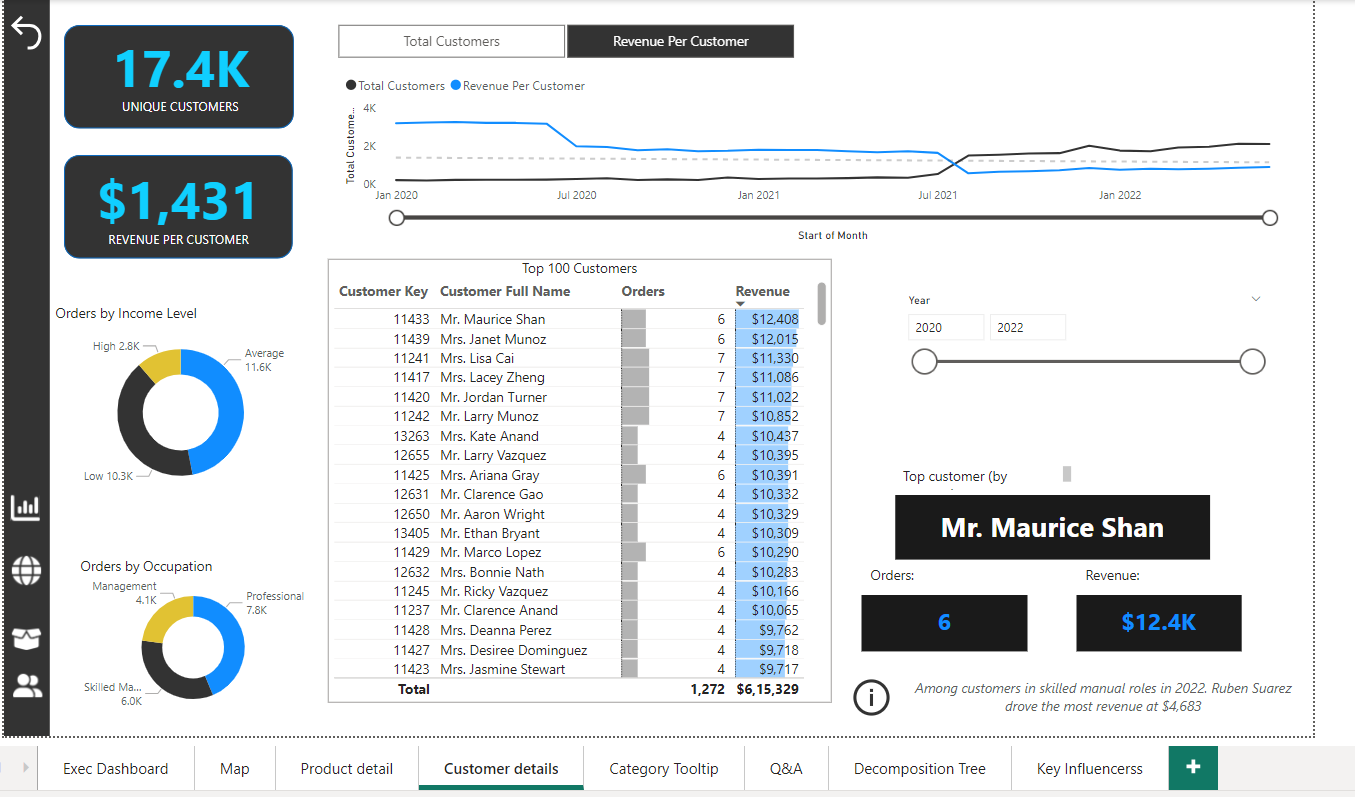

This screenshot's page, from the dashboard's own definition file:
{"tool":"powerbi","page":{"name":"Customer details","canvas":[1280,720],"ordinal":3},"visuals":[{"type":"shape","box":[0,0,45,720],"z":0},{"type":"actionButton","box":[2.4,463.3,36.7,67.2],"z":0,"group":"g1"},{"type":"shape","box":[58.8,25,225,101.2],"z":1000},{"type":"actionButton","box":[3.8,524.5,36.7,67.2],"z":1000,"group":"g1"},{"type":"card","fields":{"Values":["Meassure Table.Total customers"]},"box":[45,17.5,255,108.8],"z":2000},{"type":"actionButton","box":[3.8,591.7,36.7,67.2],"z":2000,"group":"g1"},{"type":"shape","box":[58.8,151.2,223.8,101.2],"z":3000},{"type":"card","fields":{"Values":["Meassure Table.Average Revenue Per Customer"]},"box":[70,131.2,202.5,141.2],"z":4000},{"type":"lineChart","fields":{"Y":["Meassure Table.Total customers","Meassure Table.Average Revenue Per Customer"],"Category":["Calendar Lookup.Year","Calendar Lookup.Start of Month","Calendar Lookup.Start of Week","Calendar Lookup.Date"]},"box":[328.8,63.6,935.1,177.2],"z":5000},{"type":"donutChart","title":"Orders by Income Level","fields":{"Category":["Customer Lookup.Income Level"],"Y":["Meassure Table.Total orders"]},"box":[45.2,297,255.5,195.6],"z":6000},{"type":"donutChart","title":"Orders by Occupation","fields":{"Y":["Meassure Table.Total orders"],"Category":["Customer Lookup.Occupation"]},"box":[69.7,544,231,161.4],"z":7000},{"type":"tableEx","title":"Top 100 Customers","fields":{"Values":["Customer Lookup.CustomerKey","Customer Lookup.Customer Full Name (CC)","Meassure Table.Total orders","Meassure Table.Total Revenue"]},"box":[316.6,253,492.6,434],"z":8000},{"type":"card","fields":{"Values":["Customer Lookup.Full Name (Customer Detail)"]},"box":[871.6,484.3,308,63.6],"z":9000},{"type":"textbox","box":[874,451.3,174.8,33],"z":10000},{"type":"textbox","box":[1048.8,547.9,174.8,30.6],"z":11000},{"type":"textbox","box":[838.6,547.6,162.6,34.2],"z":12000},{"type":"card","fields":{"Values":["Meassure Table.Total Revenue (Customer Detail)"]},"box":[1048.8,582.1,161.4,55],"z":13000},{"type":"card","fields":{"Values":["Meassure Table.Total Orders (Customer Detail)"]},"box":[838.6,581.9,162.6,55],"z":14000},{"type":"slicer","fields":{"Values":["Calendar Lookup.Year"]},"box":[871.6,282.4,370.4,102.7],"z":15000},{"type":"actionButton","box":[825.1,658.9,438.8,46.5],"z":16000},{"type":"actionButton","box":[0,9.8,45.2,44],"z":17000},{"type":"actionButton","box":[4.9,636.9,36.7,67.2],"z":18000},{"type":"group","id":"g1","title":"Navigation Buttons","box":[2.4,463.3,37.9,195.6],"z":19000},{"type":"slicer","fields":{"Values":["Customer Metric Selection.Customer Metric Selection"]},"box":[300.7,17.1,496.3,46.5],"z":20001}]}

Visuals, with their boxes on the page's 1280x720 design canvas (x1, y1, x2, y2). These are canvas units, not pixel positions in the 1355x797 screenshot, which may show the page scaled, cropped or inside an application window:
shape: pyautogui.locateOnScreen(0, 0, 45, 720)
actionButton: pyautogui.locateOnScreen(2, 463, 39, 530)
shape: pyautogui.locateOnScreen(59, 25, 284, 126)
actionButton: pyautogui.locateOnScreen(4, 524, 40, 592)
card - Meassure Table.Total customers: pyautogui.locateOnScreen(45, 18, 300, 126)
actionButton: pyautogui.locateOnScreen(4, 592, 40, 659)
shape: pyautogui.locateOnScreen(59, 151, 283, 252)
card - Meassure Table.Average Revenue Per Customer: pyautogui.locateOnScreen(70, 131, 272, 272)
lineChart - Meassure Table.Total customers x Meassure Table.Average Revenue Per Customer: pyautogui.locateOnScreen(329, 64, 1264, 241)
"Orders by Income Level" donutChart: pyautogui.locateOnScreen(45, 297, 301, 493)
"Orders by Occupation" donutChart: pyautogui.locateOnScreen(70, 544, 301, 705)
"Top 100 Customers" tableEx: pyautogui.locateOnScreen(317, 253, 809, 687)
card - Customer Lookup.Full Name (Customer Detail): pyautogui.locateOnScreen(872, 484, 1180, 548)
textbox: pyautogui.locateOnScreen(874, 451, 1049, 484)
textbox: pyautogui.locateOnScreen(1049, 548, 1224, 578)
textbox: pyautogui.locateOnScreen(839, 548, 1001, 582)
card - Meassure Table.Total Revenue (Customer Detail): pyautogui.locateOnScreen(1049, 582, 1210, 637)
card - Meassure Table.Total Orders (Customer Detail): pyautogui.locateOnScreen(839, 582, 1001, 637)
slicer - Calendar Lookup.Year: pyautogui.locateOnScreen(872, 282, 1242, 385)
actionButton: pyautogui.locateOnScreen(825, 659, 1264, 705)
actionButton: pyautogui.locateOnScreen(0, 10, 45, 54)
actionButton: pyautogui.locateOnScreen(5, 637, 42, 704)
"Navigation Buttons" group: pyautogui.locateOnScreen(2, 463, 40, 659)
slicer - Customer Metric Selection.Customer Metric Selection: pyautogui.locateOnScreen(301, 17, 797, 64)
